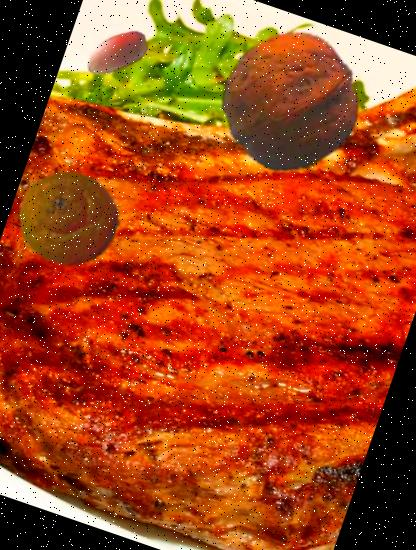Hazelnut: (73, 11, 158, 96)
Mandarine: (4, 154, 134, 284)
Walnut: (202, 13, 380, 190)
